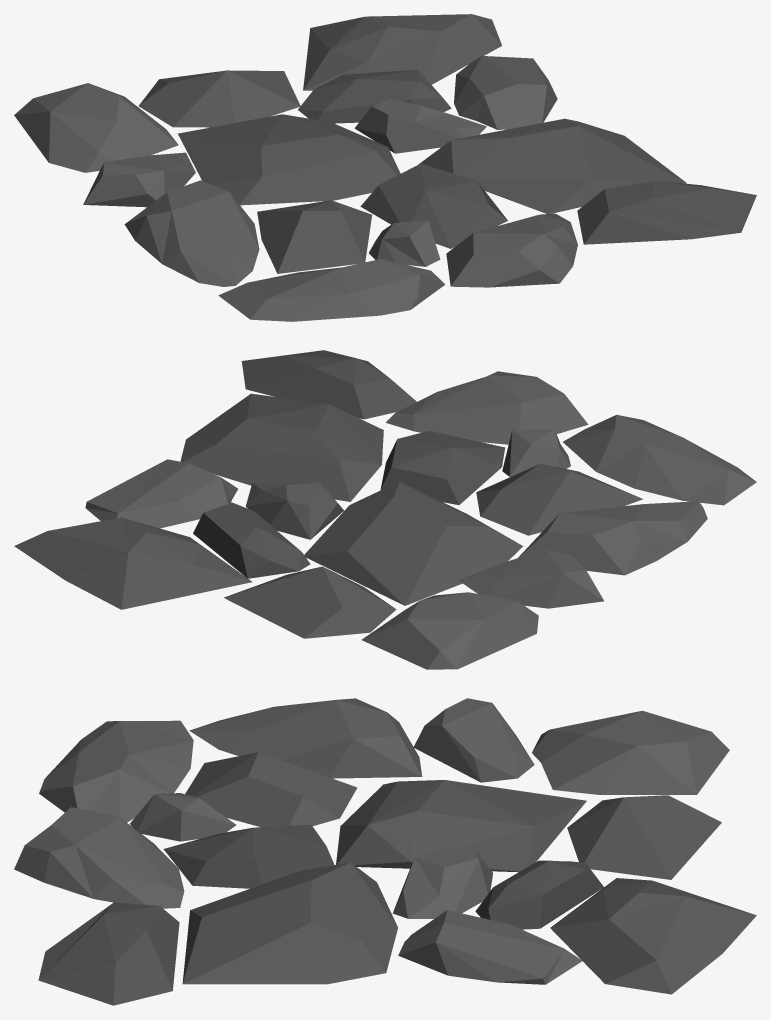
File: road_stone_short_2.fbx
3 renders of one model, top to bottom at view 1: azimuth 30°, elevation 25°; view 2: azimuth 150°, elevation 25°; view 3: azimuth 270°, elevation 25°, orthographic. The views are drawn at different scales.
Parts seen in each view (by area): view 1: road_stone_short_2; view 2: road_stone_short_2; view 3: road_stone_short_2.
Boxes of the visible parts, x1=… form: road_stone_short_2: x1=14, y1=14, x2=756, y2=321; road_stone_short_2: x1=14, y1=350, x2=756, y2=669; road_stone_short_2: x1=14, y1=698, x2=756, y2=1005.
Bounding box in the file's own units: 153 × 10.98 × 167.
